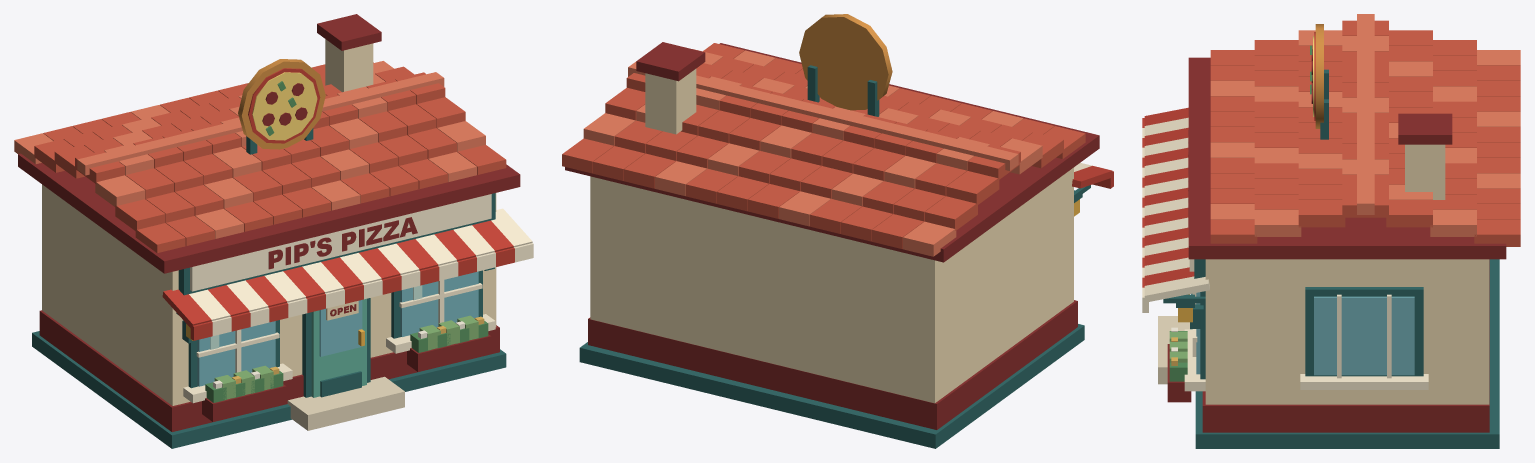
File: pizza_shop.glb
3 renders of one model, left to right at view 1: azimuth 30°, elevation 25°; view 2: azimuth 150°, elevation 25°; view 3: azimuth 270°, elevation 25°, orthographic. The views are drawn at different scales.
Visible parts, largest first — view 1: Stucco_002, Eave_004, Foundation_001, Sign_panel_115, Lower_plinth_003, Ridge_089, Door_step_111, Opaque_glass_093, Opaque_glass_100, Mozzarella_159, Door_107, Chimney_090 (+82 smaller); view 2: Stucco_002, Lower_plinth_003, Foundation_001, Golden_crust_157, Eave_004, Ridge_089, Chimney_090, Chimney_cap_091, Terracotta_roof_tile_005, Terracotta_roof_tile_017, Terracotta_roof_tile_029, Terracotta_roof_tile_009 (+45 smaller); view 3: Stucco_002, Eave_004, Lower_plinth_003, Side_window_169, Foundation_001, Ridge_089, Side_window_frame_168, Chimney_090, Side_sill_172, Chimney_cap_091, Terracotta_roof_tile_064, Terracotta_roof_tile_076 (+103 smaller).
Boxes of the visible parts, x1,y1,x2,y2 form: Stucco_002: (42, 184, 496, 405); Eave_004: (18, 153, 520, 273); Foundation_001: (32, 331, 506, 448); Sign_panel_115: (190, 194, 491, 291); Lower_plinth_003: (39, 310, 499, 431); Ridge_089: (77, 72, 444, 175); Door_step_111: (287, 376, 404, 430); Opaque_glass_093: (197, 321, 275, 386); Opaque_glass_100: (400, 271, 478, 336); Mozzarella_159: (252, 72, 317, 140); Door_107: (311, 298, 366, 397); Chimney_090: (325, 39, 373, 92); Stucco_002: (590, 167, 1073, 403); Lower_plinth_003: (588, 300, 1077, 429); Foundation_001: (579, 324, 1084, 448); Golden_crust_157: (799, 14, 892, 110); Eave_004: (565, 43, 1099, 262); Ridge_089: (628, 61, 1018, 170); Chimney_090: (645, 69, 696, 134); Chimney_cap_091: (636, 42, 705, 81); Terracotta_roof_tile_005: (903, 221, 956, 256); Terracotta_roof_tile_017: (924, 196, 977, 230); Terracotta_roof_tile_029: (946, 171, 999, 205); Terracotta_roof_tile_009: (779, 191, 831, 226); Stucco_002: (1205, 259, 1489, 404); Eave_004: (1188, 57, 1506, 259); Lower_plinth_003: (1202, 259, 1489, 432); Side_window_169: (1314, 296, 1414, 375); Foundation_001: (1195, 259, 1499, 448); Ridge_089: (1357, 14, 1374, 214); Side_window_frame_168: (1305, 287, 1423, 376); Chimney_090: (1405, 144, 1445, 199); Side_sill_172: (1300, 374, 1428, 389); Chimney_cap_091: (1398, 113, 1452, 144); Terracotta_roof_tile_064: (1298, 200, 1345, 227); Terracotta_roof_tile_076: (1254, 209, 1301, 236).
Bounding box in the file's own units: 6.65 × 5.42 × 5.61.
